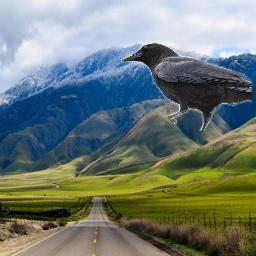Crow: (121, 43, 252, 131)
